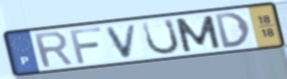D: (212, 10, 253, 50)
F: (68, 25, 105, 65)
M: (172, 13, 224, 54)
R: (31, 29, 76, 70)
U: (140, 17, 182, 57)
V: (104, 22, 140, 60)
